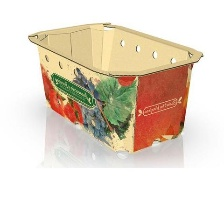plastic_box: (23, 13, 209, 160)
